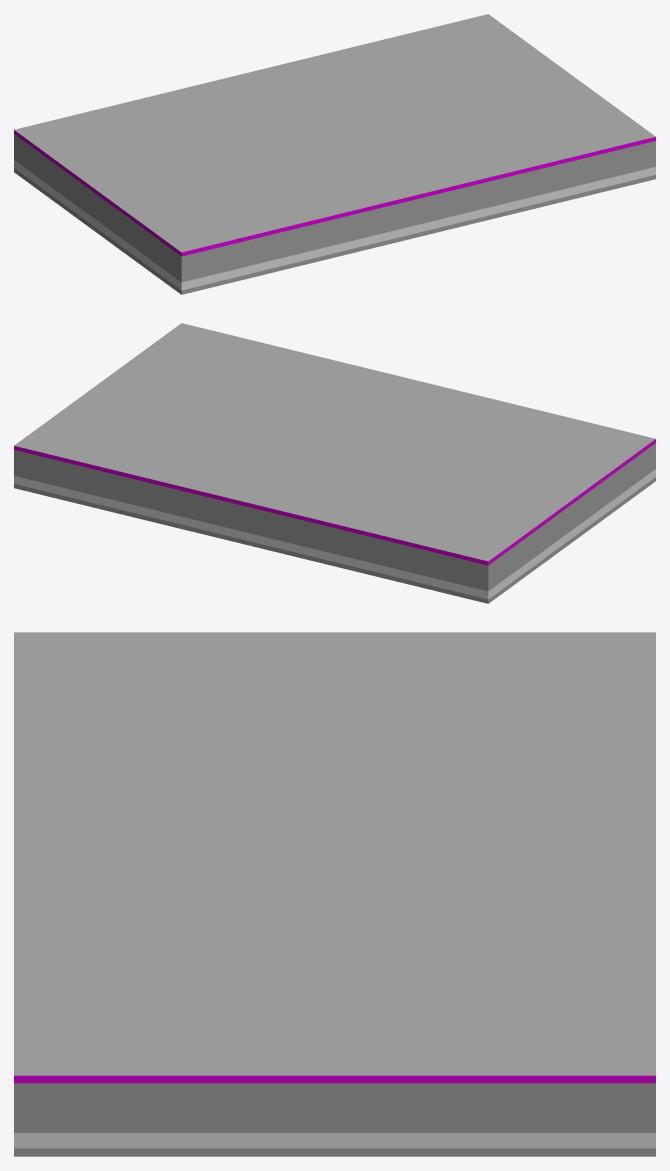
Rendered from MoveFloor.fbx.
3 renders of one model, top to bottom at view 1: azimuth 30°, elevation 25°; view 2: azimuth 150°, elevation 25°; view 3: azimuth 270°, elevation 25°, orthographic. The views are drawn at different scales.
Visible parts, largest first — view 1: MoveFloor; view 2: MoveFloor; view 3: MoveFloor.
Boxes of the visible parts, box(x1,y1,x2,y2) form: MoveFloor: box(14, 14, 655, 294); MoveFloor: box(14, 323, 655, 603); MoveFloor: box(14, 632, 655, 1156).
Bounding box in the file's own units: 34.79 × 2.97 × 21.29.
